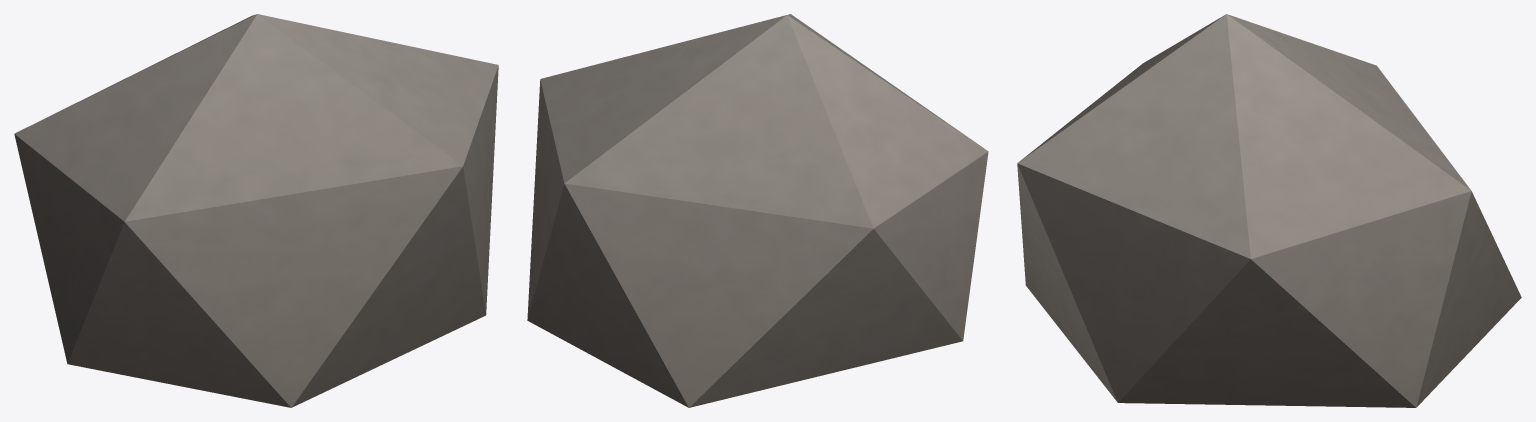
The model's file is boulder.glb.
The picture shows the model from 3 angles, left to right: view 1: azimuth 30°, elevation 25°; view 2: azimuth 150°, elevation 25°; view 3: azimuth 270°, elevation 25°; orthographic projection. The views are drawn at different scales.
Parts seen in each view (by area): view 1: Icosphere; view 2: Icosphere; view 3: Icosphere.
Part boxes in pixels (left/top/right/bottom): Icosphere: left=14, top=14, right=498, bottom=407; Icosphere: left=527, top=14, right=988, bottom=407; Icosphere: left=1017, top=14, right=1521, bottom=407.
Size of the model in its own units: 1.44 by 0.9447 by 1.42.
Materials: 1 (1 with a texture image).
